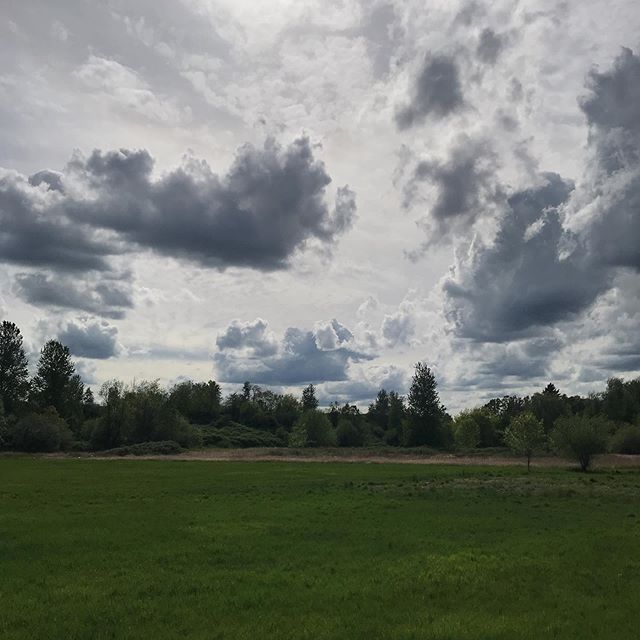grass: (4, 468, 633, 635)
sky: (1, 1, 628, 362)
vegetation: (4, 350, 637, 475)
